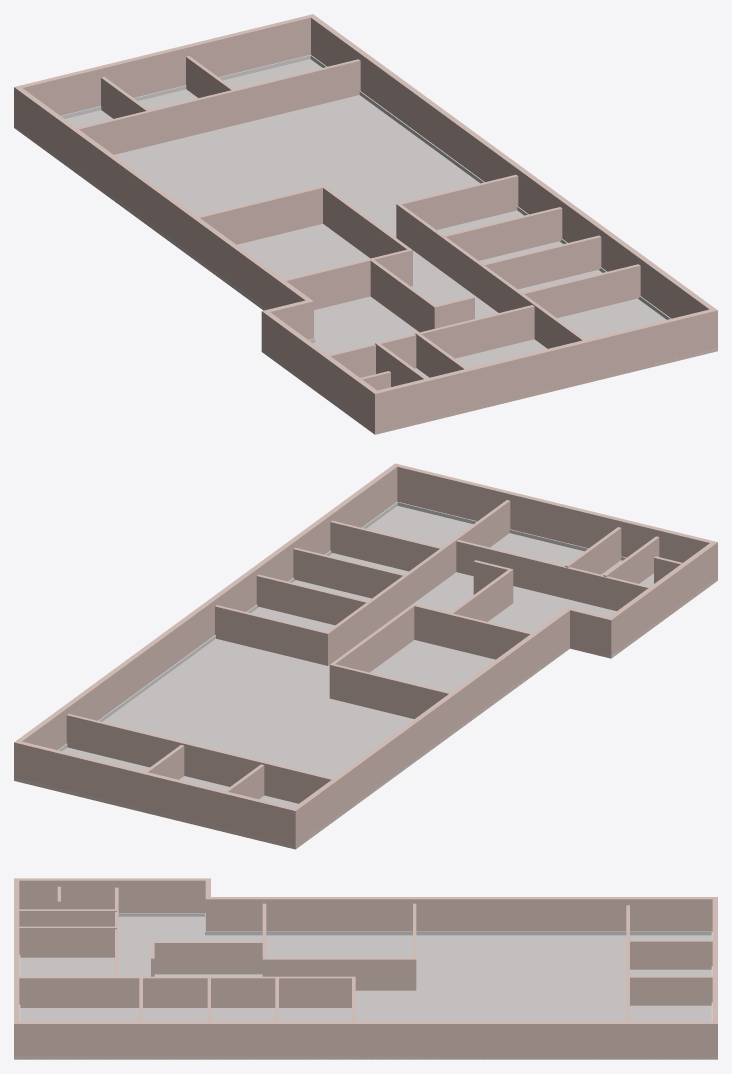
The model's file is 空间建模.fbx.
3 views of the same model, one above another, from view 1: azimuth 30°, elevation 25°; view 2: azimuth 150°, elevation 25°; view 3: azimuth 270°, elevation 25° (orthographic). The views are drawn at different scales.
Visible parts, largest first — view 1: Room, Floor, Room.003, Room.005, Room.002, Room.001, Room.007, Room.006, Room.008, Room.004, Baseboard, Room.010 (+3 smaller); view 2: Room, Floor, Room.002, Room.003, Room.005, Room.001, Room.006, Room.007, Room.008, Baseboard, Room.004, Room.010 (+3 smaller); view 3: Room, Floor, Room.002, Baseboard, Room.003, Room.004, Room.010, Room.012, Room.013, Room.011, Room.005, Room.001.
Boxes of the visible parts, left/top/right/bottom form: Room: left=14, top=14, right=717, bottom=434; Floor: left=65, top=59, right=666, bottom=377; Room.003: left=198, top=185, right=412, bottom=309; Room.005: left=77, top=59, right=360, bottom=154; Room.002: left=396, top=175, right=585, bottom=348; Room.001: left=329, top=305, right=534, bottom=377; Room.007: left=481, top=235, right=601, bottom=289; Room.006: left=443, top=207, right=562, bottom=260; Room.008: left=521, top=264, right=640, bottom=317; Room.004: left=370, top=260, right=474, bottom=332; Baseboard: left=14, top=55, right=717, bottom=433; Room.010: left=415, top=332, right=467, bottom=377; Room: left=14, top=463, right=717, bottom=849; Floor: left=62, top=506, right=653, bottom=807; Room.002: left=215, top=500, right=510, bottom=665; Room.003: left=329, top=604, right=531, bottom=718; Room.005: left=66, top=713, right=333, bottom=803; Room.001: left=456, top=540, right=649, bottom=611; Room.006: left=256, top=574, right=368, bottom=625; Room.007: left=293, top=547, right=405, bottom=598; Room.008: left=330, top=520, right=442, bottom=571; Baseboard: left=14, top=501, right=717, bottom=849; Room.004: left=450, top=560, right=513, bottom=621; Room.010: left=565, top=527, right=621, bottom=574; Room: left=14, top=878, right=717, bottom=1059; Floor: left=20, top=916, right=711, bottom=1021; Room.002: left=19, top=976, right=355, bottom=1021; Baseboard: left=14, top=913, right=717, bottom=1059; Room.003: left=262, top=903, right=416, bottom=990; Room.004: left=151, top=941, right=262, bottom=976; Room.010: left=19, top=926, right=116, bottom=957; Room.012: left=630, top=940, right=712, bottom=969; Room.013: left=630, top=976, right=712, bottom=1005; Room.011: left=19, top=909, right=116, bottom=926; Room.005: left=626, top=905, right=629, bottom=1021; Room.001: left=115, top=887, right=118, bottom=976.
Size of the model in its own units: 580 by 66 by 1186.
